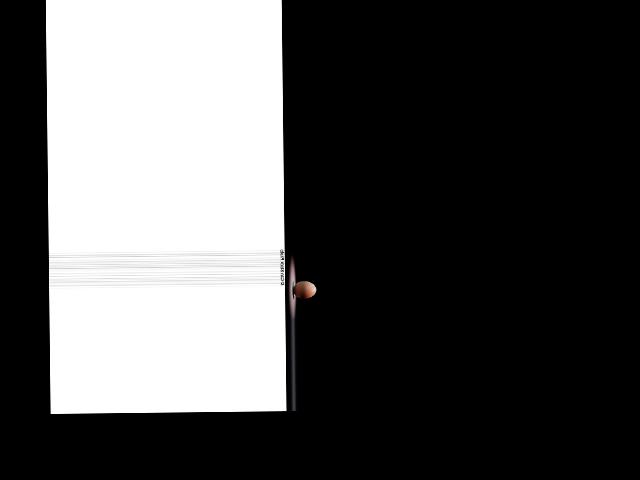egg: (292, 280, 316, 299)
